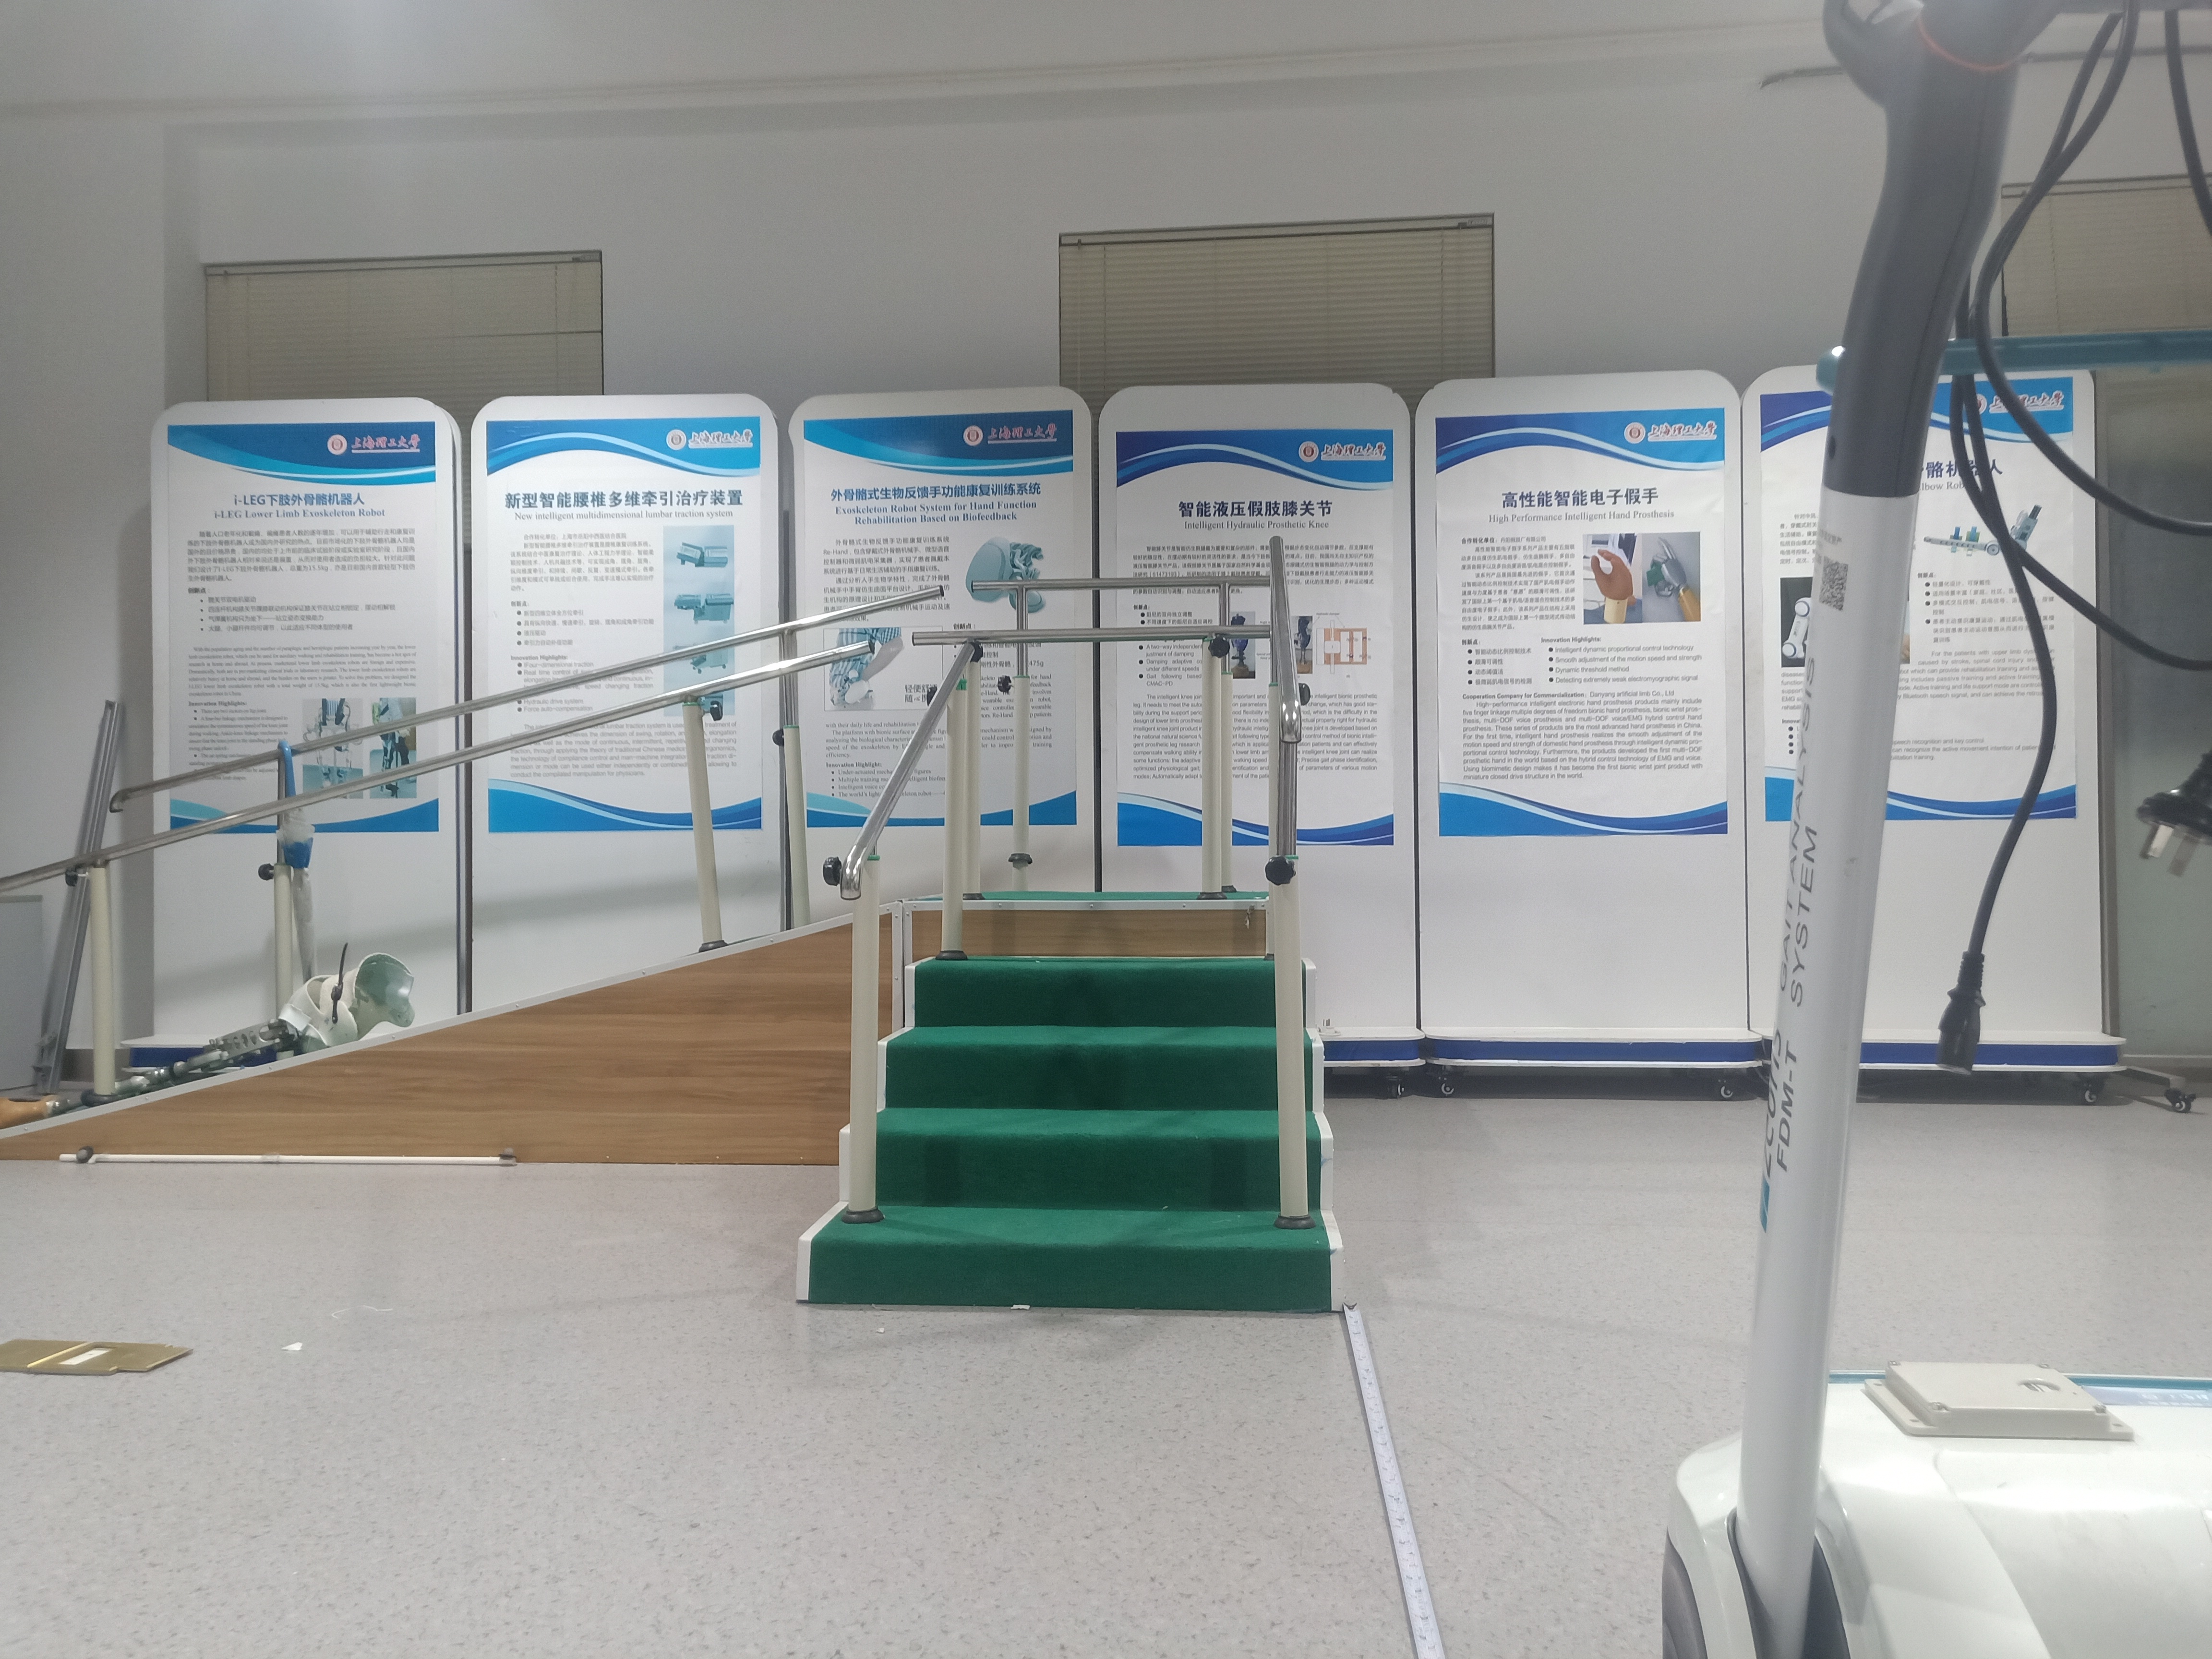stairs: (792, 953, 1346, 1309)
